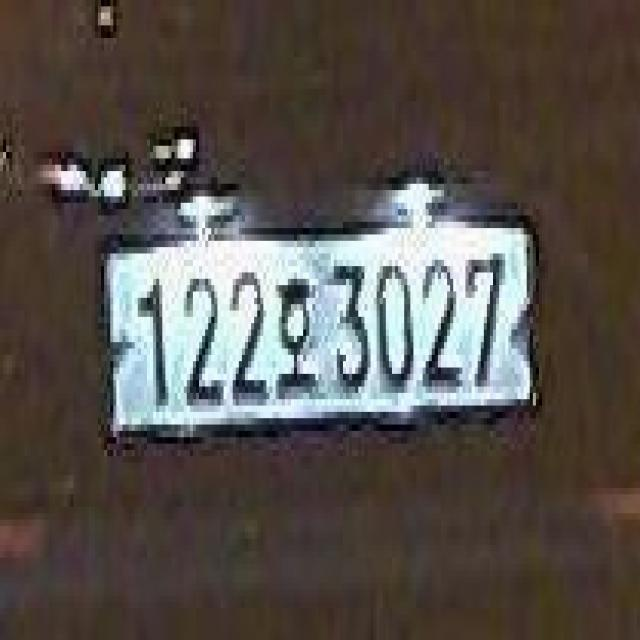illegal_plate: (96, 206, 540, 451)
